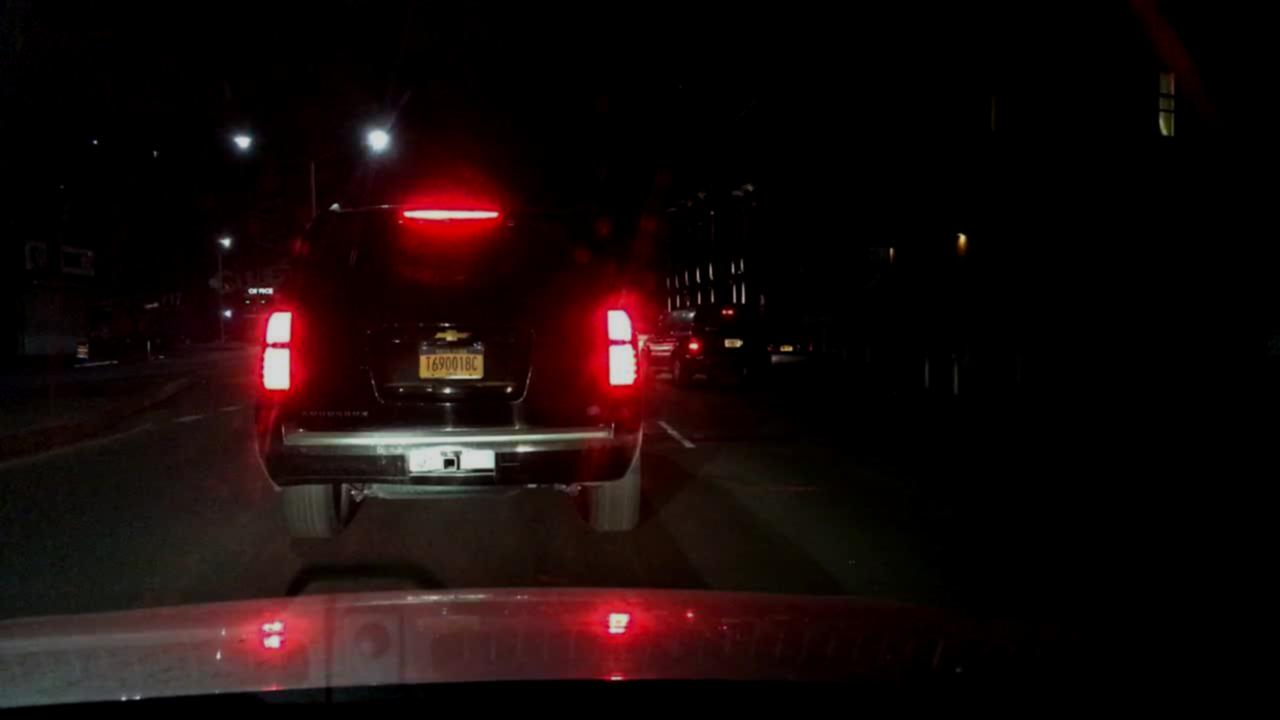chevrolet: (427, 321, 486, 349)
